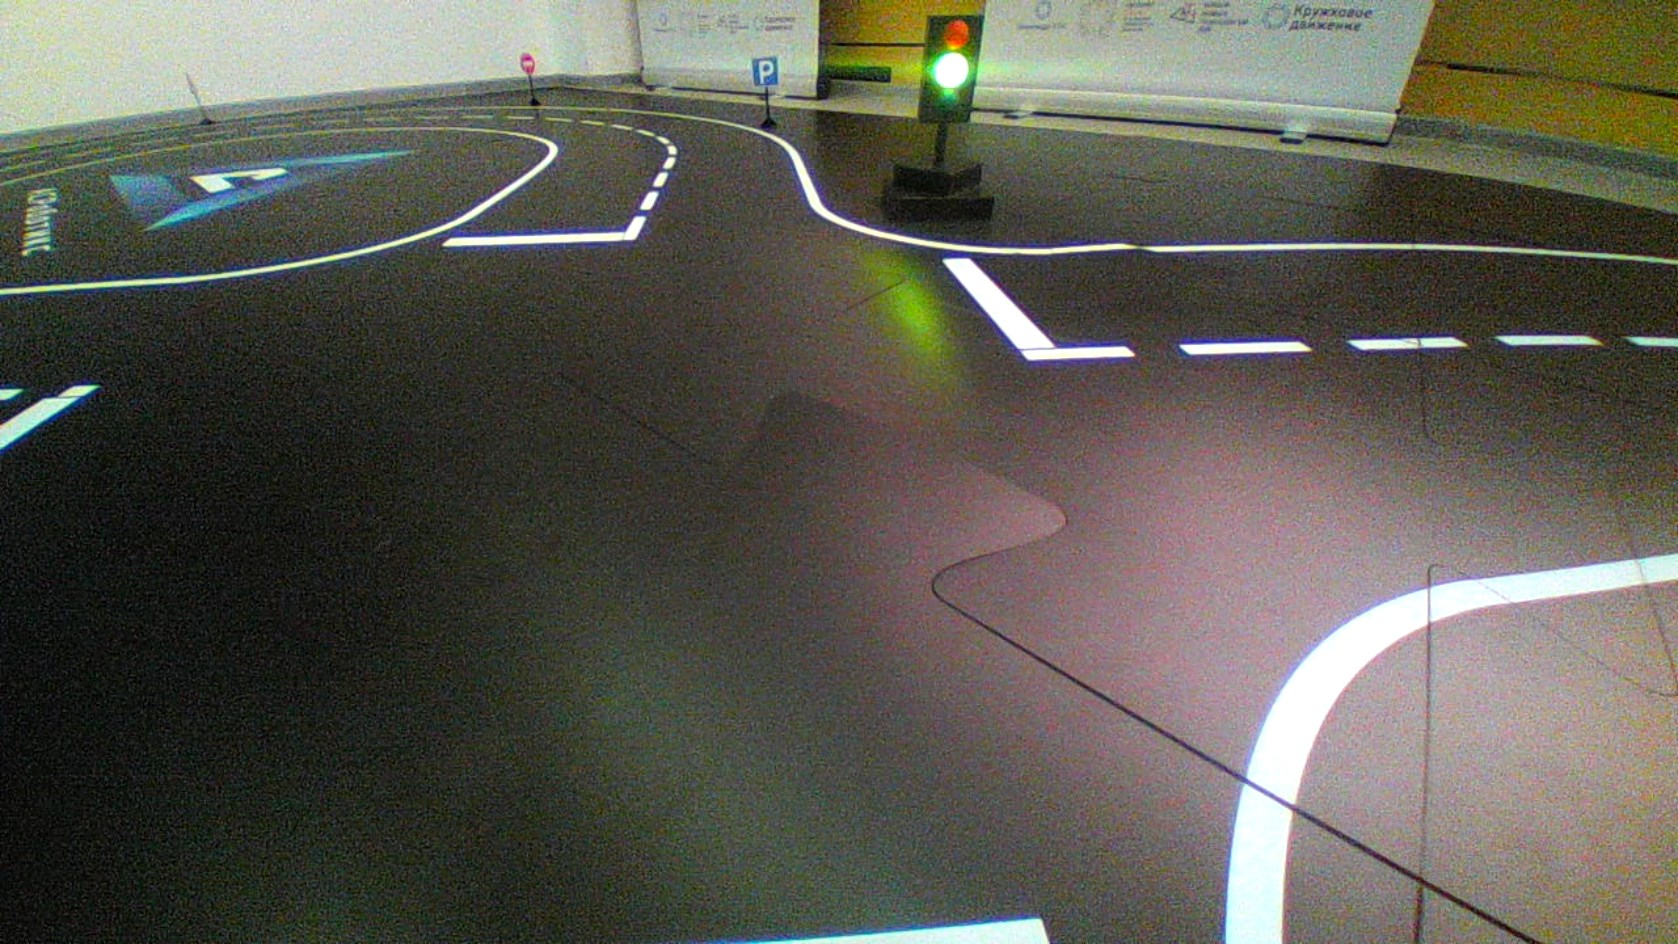trafficlight: (916, 13, 984, 124)
